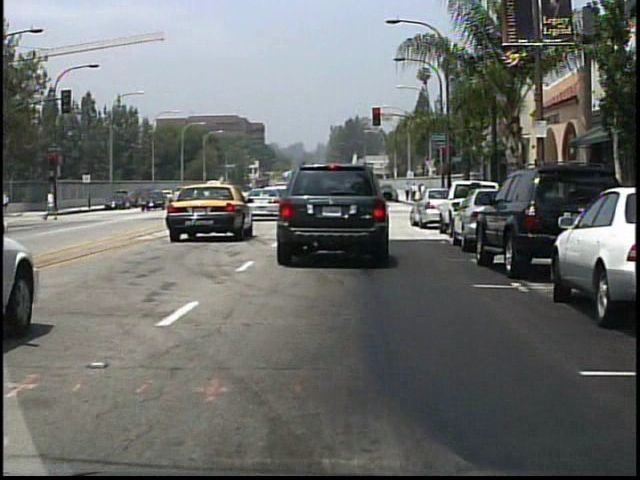person: (413, 180, 433, 214), (46, 186, 59, 223), (420, 180, 428, 203), (411, 181, 419, 203), (404, 180, 411, 202)
